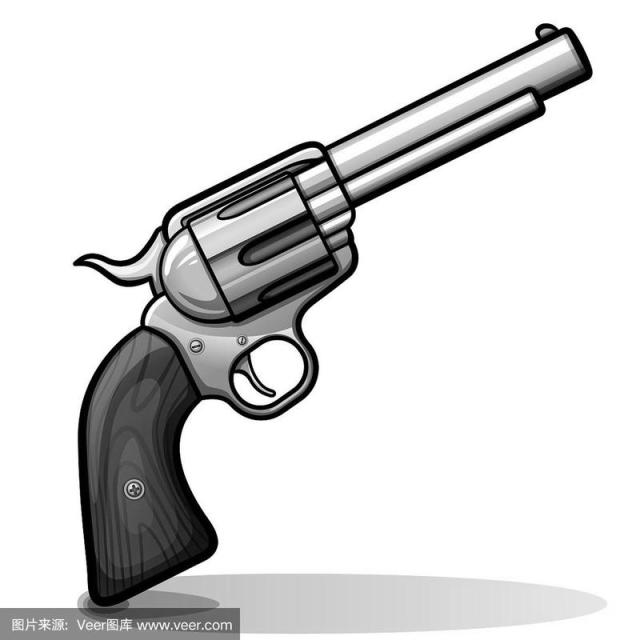gun: (72, 22, 593, 608)
